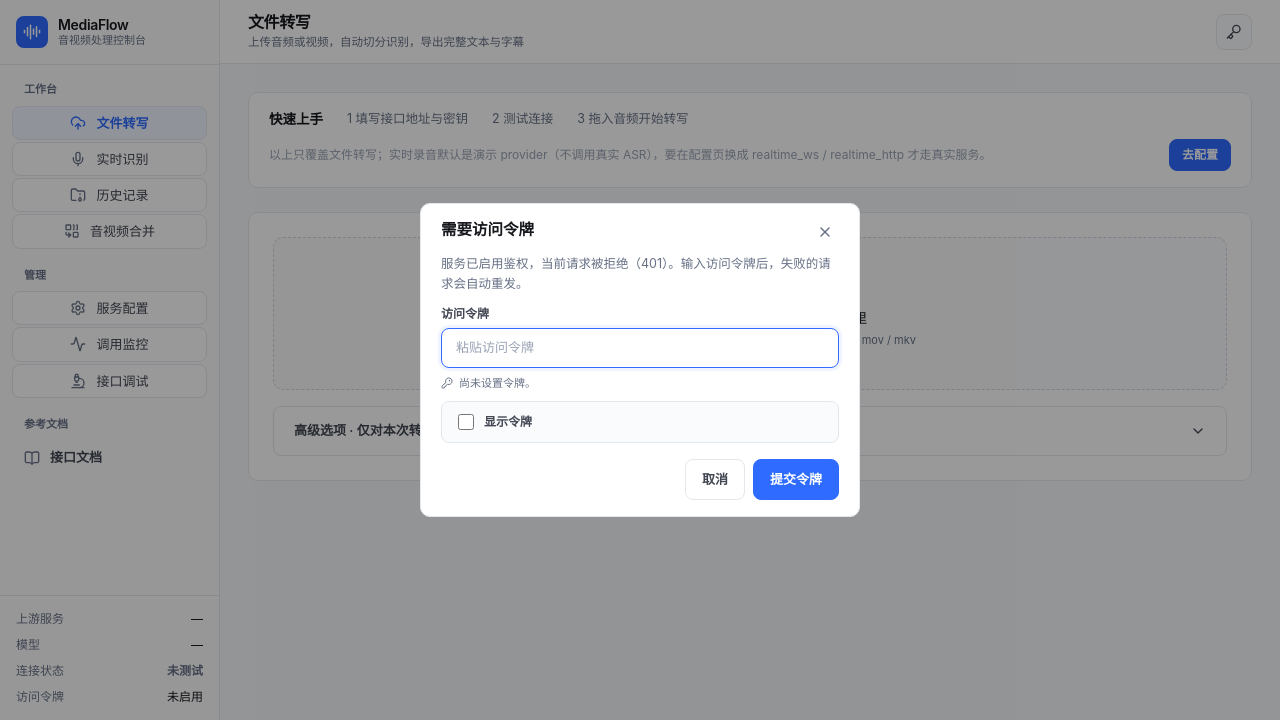
Test case: <App /> smoke › asks for the access token in the page, once, when auth is required
This screenshot has width=1280, height=720.
Check: the text "快速上手" is shown, box 269,109 -> 323,131
Check: the number of dialogs is 1, box 420,203 -> 860,517
Click the button "取消".
click(715, 480)  # box 685,459 -> 745,500
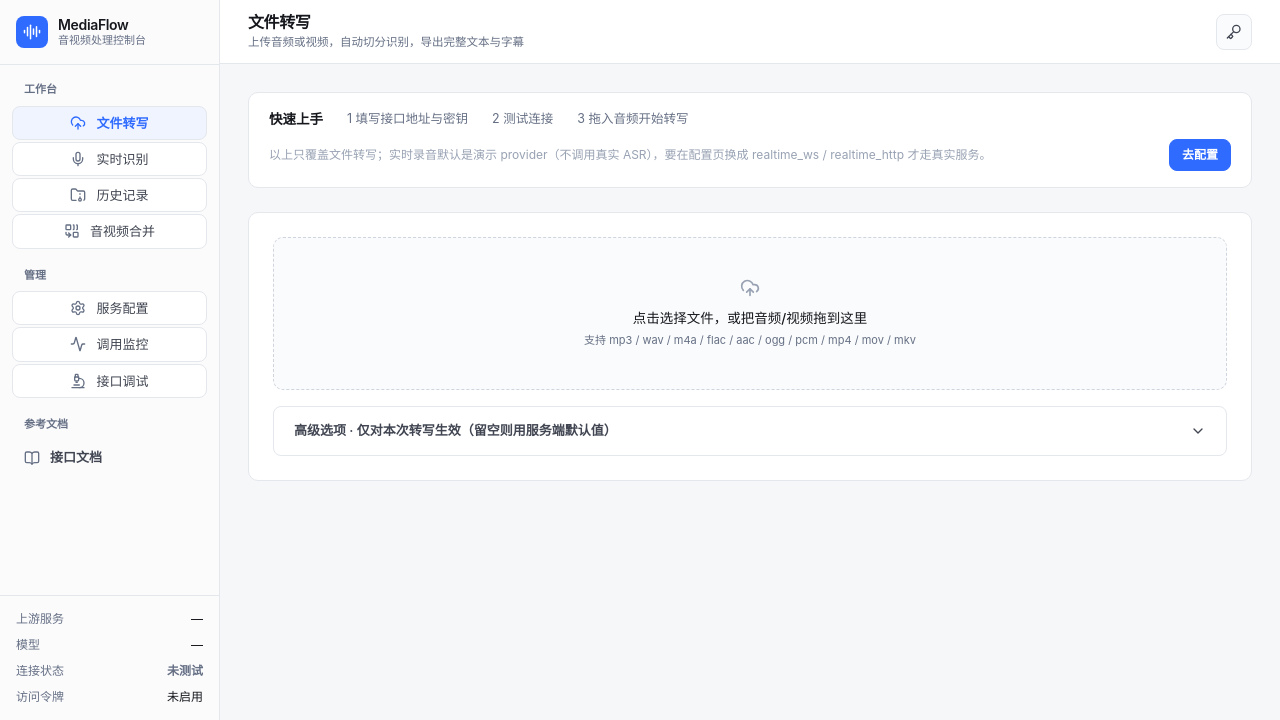
Check: the dialog is gone
